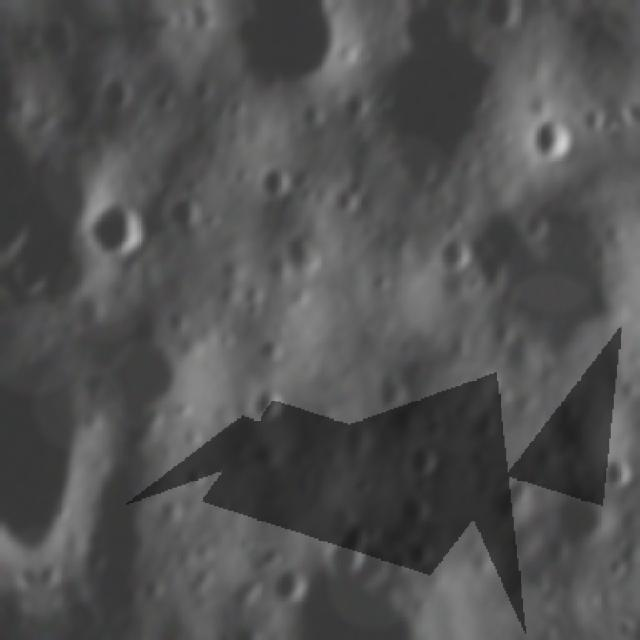crater: (323, 9, 539, 211), (444, 177, 640, 394), (62, 278, 224, 447), (212, 0, 350, 105), (530, 480, 625, 569), (76, 188, 155, 267), (307, 512, 382, 590), (471, 456, 544, 532), (229, 374, 297, 434), (524, 111, 581, 171), (157, 175, 212, 237), (248, 153, 302, 210), (396, 430, 449, 488), (468, 0, 535, 45), (424, 228, 476, 283), (272, 222, 321, 278), (368, 368, 417, 422), (387, 483, 439, 532), (264, 560, 311, 612), (507, 202, 555, 250), (91, 69, 138, 116), (595, 451, 640, 494), (392, 536, 438, 578), (129, 569, 168, 613), (143, 79, 180, 118), (594, 547, 632, 582), (177, 461, 214, 496), (154, 498, 186, 532)
